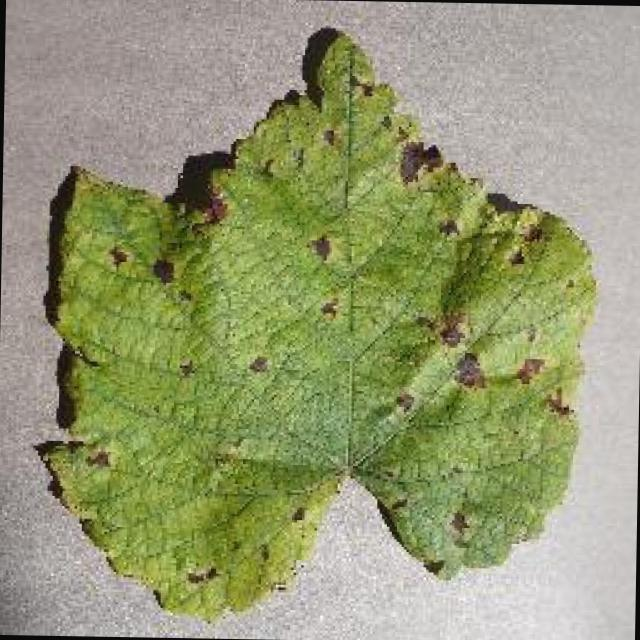leaf_spot: (43, 33, 593, 618)
